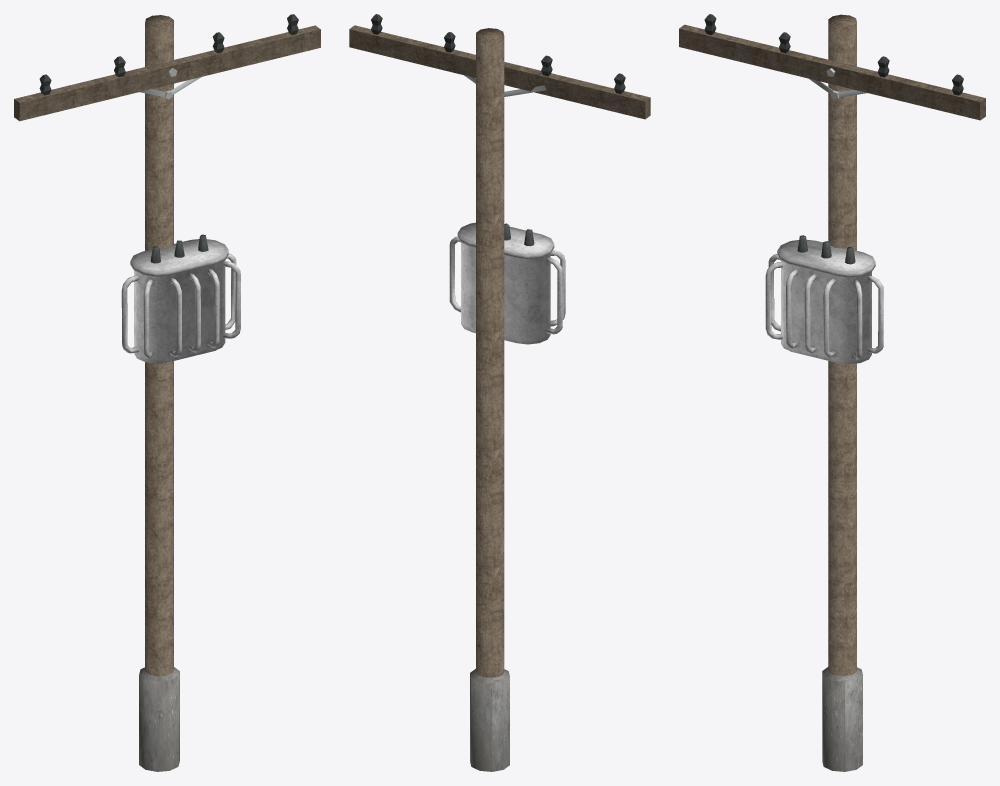
The model's file is Tiang kabel 1,1.fbx.
The picture shows the model from 3 angles, left to right: view 1: azimuth 30°, elevation 25°; view 2: azimuth 150°, elevation 25°; view 3: azimuth 330°, elevation 25°; orthographic projection.
Parts seen in each view (by area): view 1: BaseWoodPole_LOD0; view 2: BaseWoodPole_LOD0; view 3: BaseWoodPole_LOD0.
Boxes of the visible parts, x1,y1,x2,y2 form: BaseWoodPole_LOD0: (14, 14, 320, 771); BaseWoodPole_LOD0: (349, 14, 650, 771); BaseWoodPole_LOD0: (679, 14, 985, 771).
Size of what is drawn, in the model's own units: 212 by 500 by 59.65.
